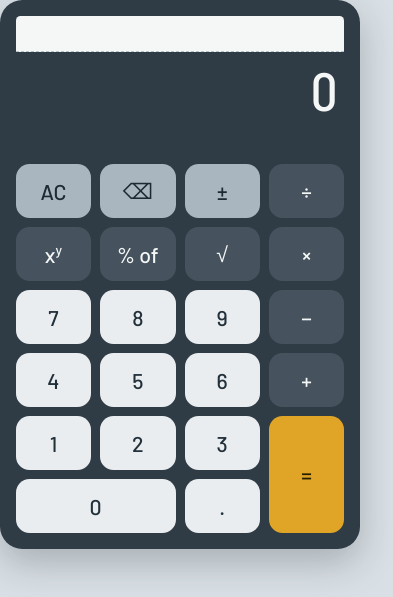
Test case: Calculator › with the mouse › shows 2 ^ 10 = 1024
This screenshot has width=393, height=597.
Step 1. Click the button "2" → point(138, 443), box [100,416,176,470]
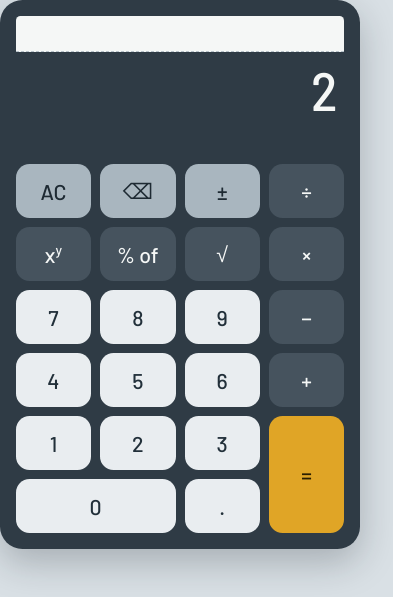
Step 2. Click the button with aria-label "Power" → point(54, 254), box [16,227,91,281]
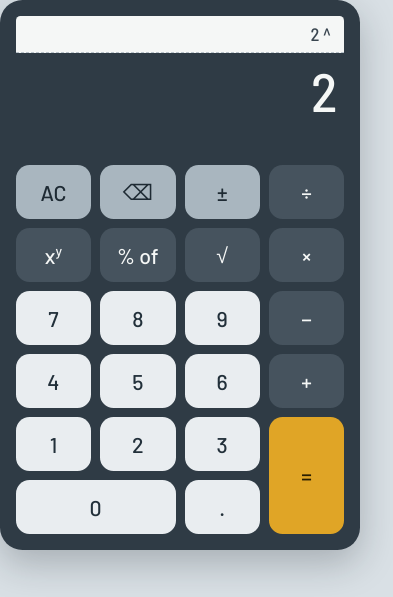
Step 3. Click the button "1" → point(54, 444), box [16,417,91,471]
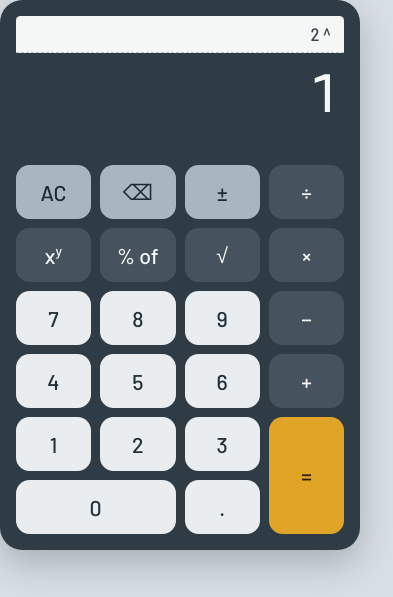
Step 4. Click the button "0" → point(96, 507), box [16,480,176,534]
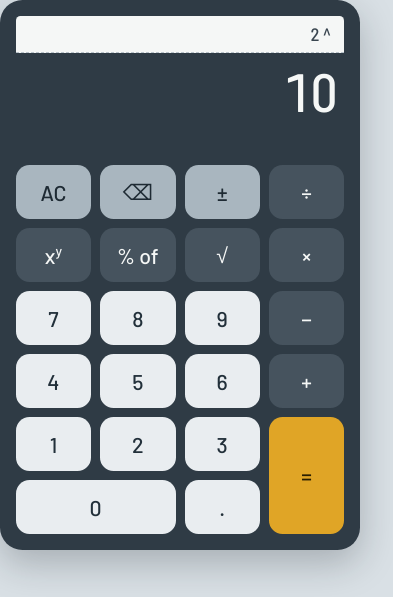
Step 5. Click the button named "Equals" → point(307, 476), box [269,417,344,534]
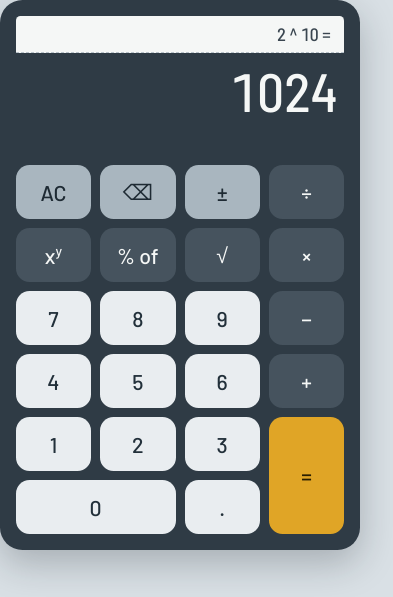
Check: the text "1024" is shown, box [231,58,338,123]
Check: the text with test id "tape" reads "2 ^ 10 =", box [277,22,331,44]
